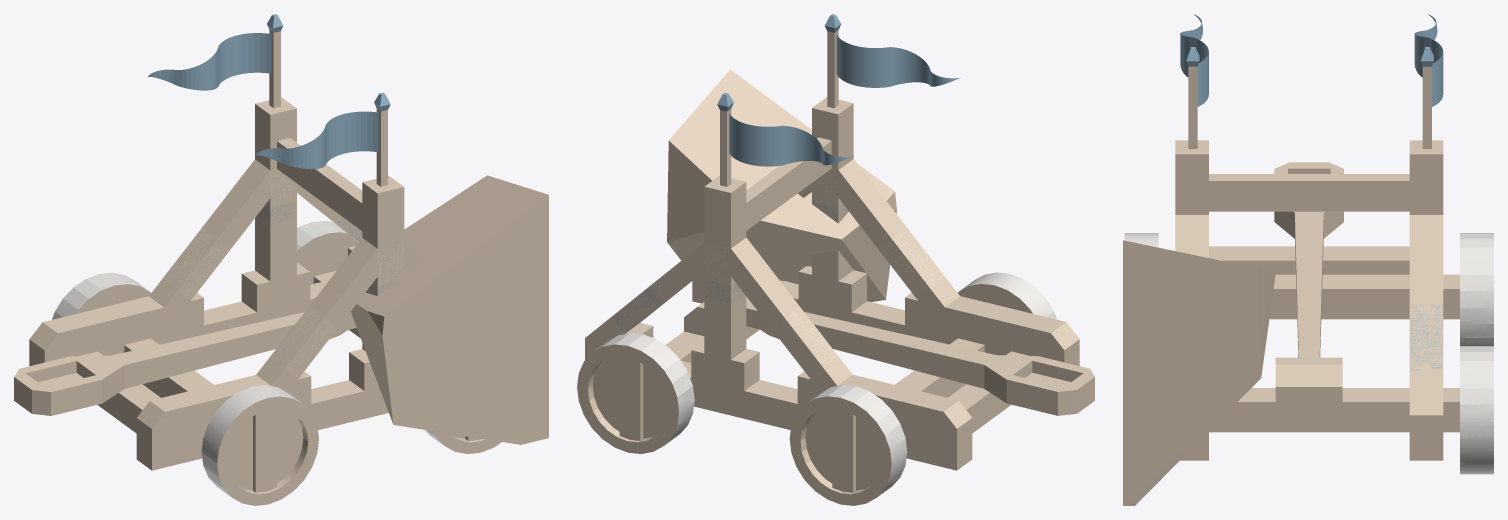
File: siegeCatapult.fbx
3 renders of one model, left to right at view 1: azimuth 30°, elevation 25°; view 2: azimuth 150°, elevation 25°; view 3: azimuth 270°, elevation 25°, orthographic. The views are drawn at different scales.
Parts seen in each view (by area): view 1: siegeCatapult, siegeCatapult_cell, siegeCatapult_cell.005, siegeCatapult_cell.002, siegeCatapult_cell.016, siegeCatapult_cell.006, siegeCatapult_cell.010, siegeCatapult_cell.003, siegeCatapult_cell.007, siegeCatapult_cell.011, siegeCatapult_cell.014, siegeCatapult_cell.017 (+7 smaller); view 2: siegeCatapult, siegeCatapult_cell, siegeCatapult_cell.019, siegeCatapult_cell.005, siegeCatapult_cell.002, siegeCatapult_cell.015, siegeCatapult_cell.007, siegeCatapult_cell.006, siegeCatapult_cell.010, siegeCatapult_cell.003, siegeCatapult_cell.017, siegeCatapult_cell.001; view 3: siegeCatapult, siegeCatapult_cell, siegeCatapult_cell.007, siegeCatapult_cell.005, siegeCatapult_cell.003, siegeCatapult_cell.015, siegeCatapult_cell.019, siegeCatapult_cell.001, siegeCatapult_cell.017, siegeCatapult_cell.002, siegeCatapult_cell.010, siegeCatapult_cell.011 (+2 smaller).
Part boxes in pixels (bbox=[...]): siegeCatapult: bbox=[14, 14, 484, 505]; siegeCatapult_cell: bbox=[350, 175, 548, 444]; siegeCatapult_cell.005: bbox=[62, 97, 336, 321]; siegeCatapult_cell.002: bbox=[29, 296, 350, 470]; siegeCatapult_cell.016: bbox=[201, 398, 318, 505]; siegeCatapult_cell.006: bbox=[88, 316, 369, 429]; siegeCatapult_cell.010: bbox=[15, 339, 204, 415]; siegeCatapult_cell.003: bbox=[338, 177, 425, 306]; siegeCatapult_cell.007: bbox=[202, 198, 362, 334]; siegeCatapult_cell.011: bbox=[255, 111, 378, 169]; siegeCatapult_cell.014: bbox=[147, 36, 271, 90]; siegeCatapult_cell.017: bbox=[181, 314, 300, 373]; siegeCatapult: bbox=[577, 14, 1094, 505]; siegeCatapult_cell: bbox=[667, 69, 896, 301]; siegeCatapult_cell.019: bbox=[577, 333, 694, 452]; siegeCatapult_cell.005: bbox=[689, 170, 923, 406]; siegeCatapult_cell.002: bbox=[870, 211, 1079, 470]; siegeCatapult_cell.015: bbox=[796, 385, 906, 494]; siegeCatapult_cell.007: bbox=[602, 270, 801, 404]; siegeCatapult_cell.006: bbox=[847, 231, 963, 468]; siegeCatapult_cell.010: bbox=[911, 337, 1094, 415]; siegeCatapult_cell.003: bbox=[789, 97, 893, 225]; siegeCatapult_cell.017: bbox=[806, 312, 915, 347]; siegeCatapult_cell.001: bbox=[701, 252, 862, 317]; siegeCatapult: bbox=[1124, 18, 1493, 474]; siegeCatapult_cell: bbox=[1123, 240, 1275, 505]; siegeCatapult_cell.007: bbox=[1282, 270, 1459, 460]; siegeCatapult_cell.005: bbox=[1299, 140, 1459, 288]; siegeCatapult_cell.003: bbox=[1175, 140, 1304, 257]; siegeCatapult_cell.015: bbox=[1460, 233, 1493, 337]; siegeCatapult_cell.019: bbox=[1460, 346, 1493, 474]; siegeCatapult_cell.001: bbox=[1181, 364, 1289, 460]; siegeCatapult_cell.017: bbox=[1295, 253, 1322, 326]; siegeCatapult_cell.002: bbox=[1209, 246, 1358, 274]; siegeCatapult_cell.010: bbox=[1274, 163, 1343, 266]; siegeCatapult_cell.011: bbox=[1180, 14, 1208, 77].
Size of the model in its own units: 1740 by 1335 by 1162.
